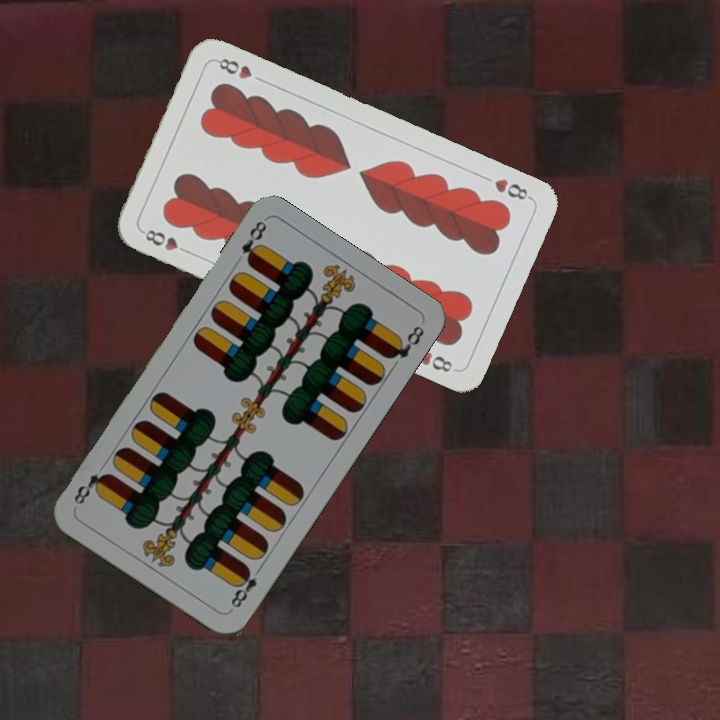E8: (226, 561, 265, 611), (237, 216, 270, 268)
H8: (138, 225, 194, 257), (490, 174, 534, 203)
